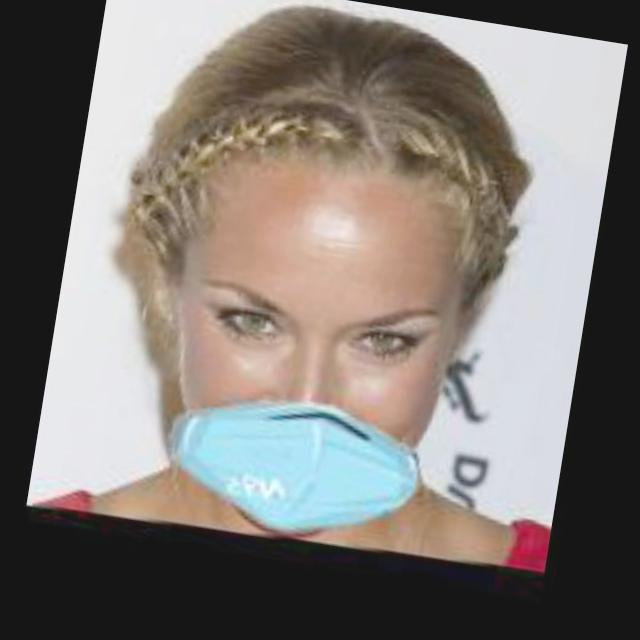suspicion: (109, 74, 484, 548)
